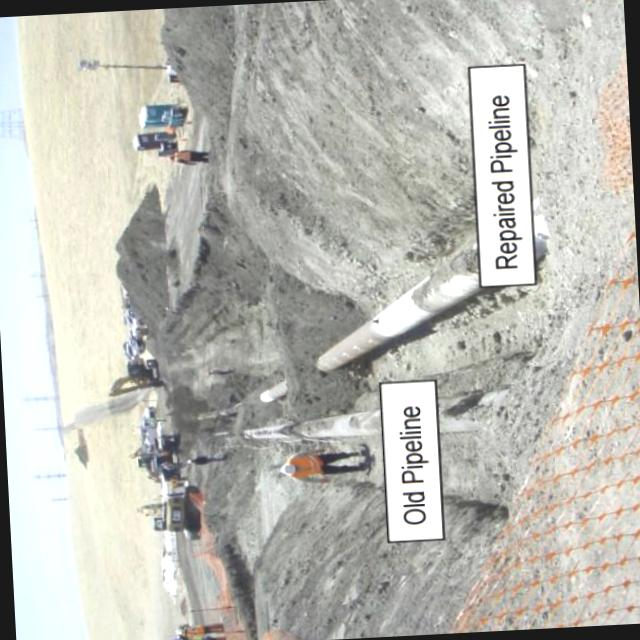gas: (317, 247, 480, 370)
